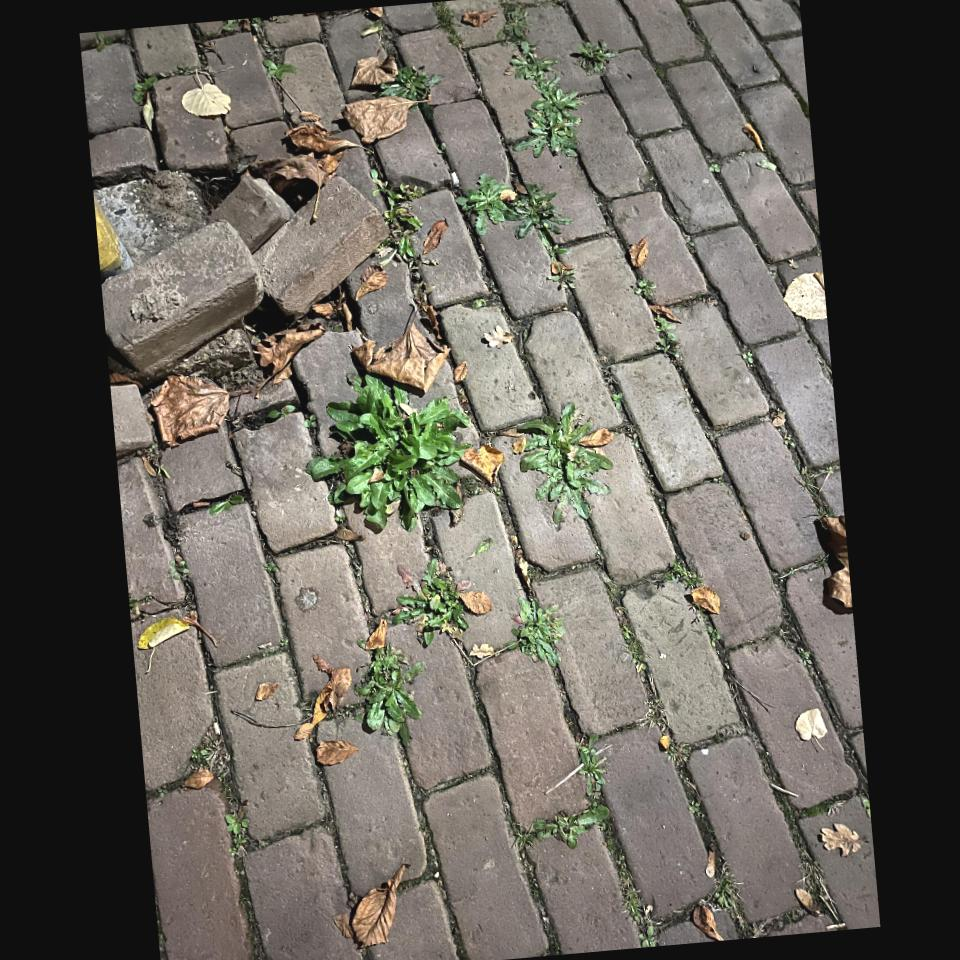weed: (313, 370, 480, 530), (577, 745, 660, 939), (509, 380, 623, 517), (500, 25, 586, 165), (329, 631, 440, 729), (457, 162, 552, 247), (393, 557, 488, 640), (362, 174, 434, 281), (524, 804, 637, 844), (693, 852, 748, 922), (517, 601, 558, 674), (399, 61, 446, 110), (192, 722, 230, 779), (582, 36, 614, 76), (225, 812, 248, 856), (655, 317, 679, 357), (263, 59, 297, 81), (635, 279, 656, 299)
